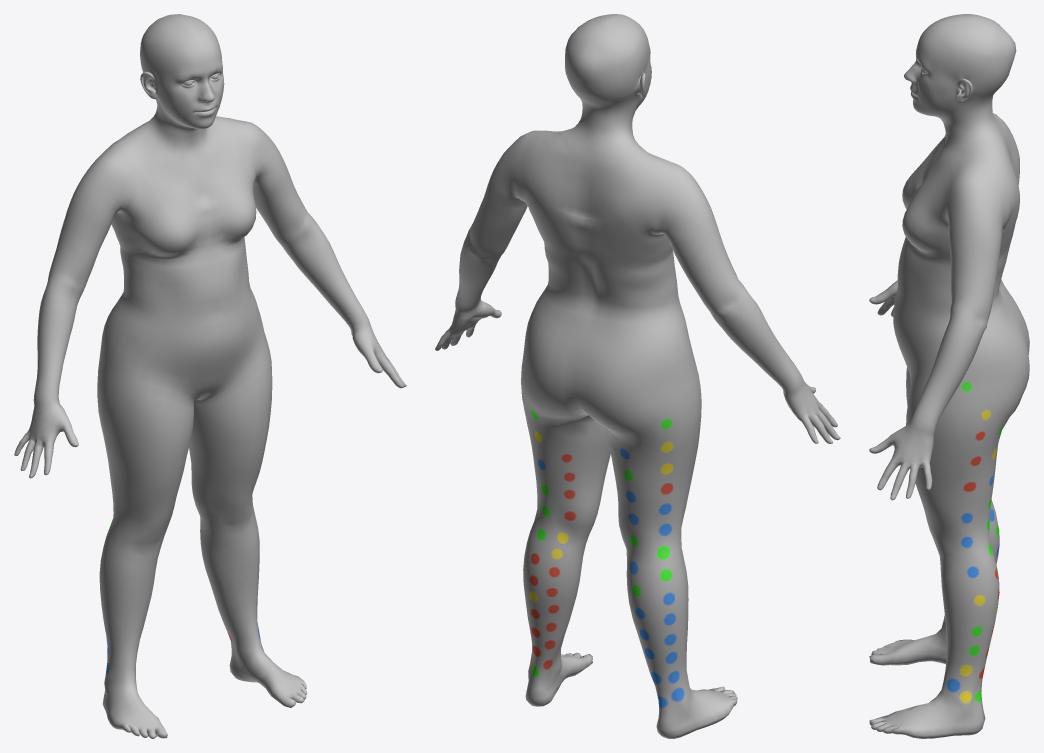
File: 1135039-hipflex-all.gltf
3 renders of one model, left to right at view 1: azimuth 30°, elevation 25°; view 2: azimuth 150°, elevation 25°; view 3: azimuth 270°, elevation 25°, orthographic. The views are drawn at different scales.
Parts seen in each view (by area): view 1: Female 60in 130lbs; view 2: Female 60in 130lbs; view 3: Female 60in 130lbs.
Boxes of the visible parts, box(x1,y1,x2,y2) form: Female 60in 130lbs: box(14, 14, 406, 738); Female 60in 130lbs: box(435, 14, 840, 738); Female 60in 130lbs: box(869, 14, 1029, 738).
Size of the model in its own units: 2.68 by 4.58 by 0.9768.
1 material, 1 textured.
